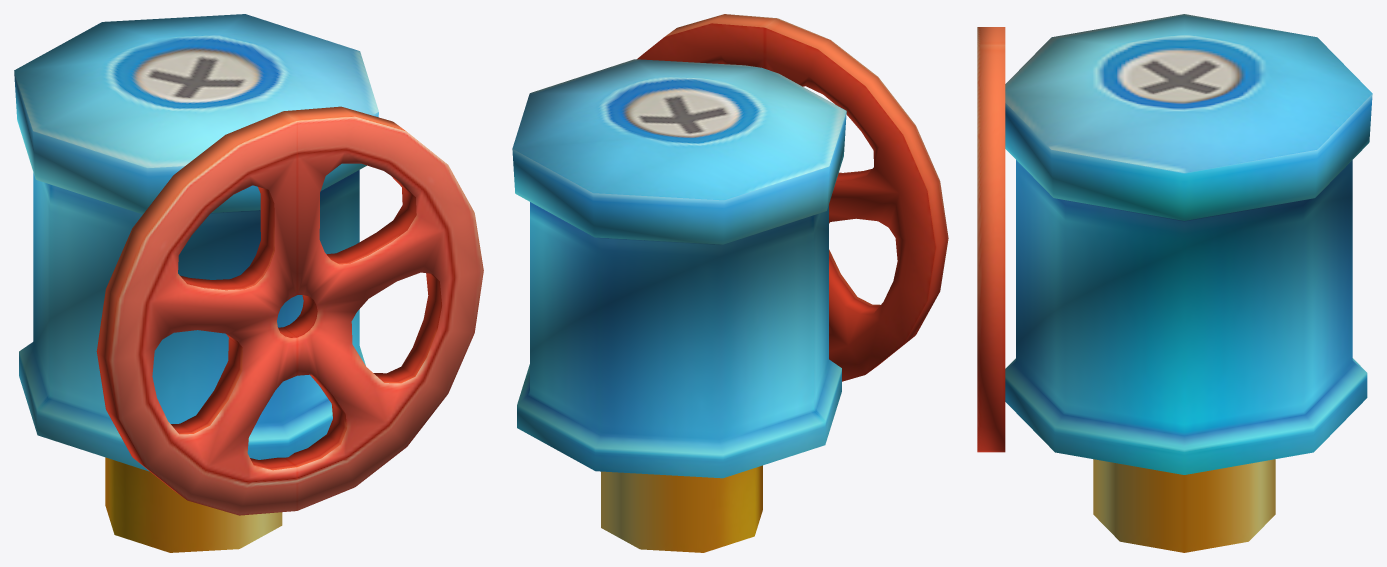
The picture shows the model from 3 angles, left to right: view 1: azimuth 30°, elevation 25°; view 2: azimuth 150°, elevation 25°; view 3: azimuth 270°, elevation 25°; orthographic projection. The views are drawn at different scales.
Visible parts, largest first — view 1: Object002, Object005; view 2: Object002, Object005; view 3: Object002, Object005.
Part boxes in pixels (left/top/right/bottom): Object002: left=14, top=14, right=378, bottom=552; Object005: left=96, top=106, right=483, bottom=515; Object002: left=512, top=59, right=846, bottom=552; Object005: left=637, top=14, right=948, bottom=381; Object002: left=1005, top=14, right=1372, bottom=552; Object005: left=977, top=27, right=1005, bottom=452.
Bounding box in the file's own units: 50.14 × 60.4 × 46.17.
